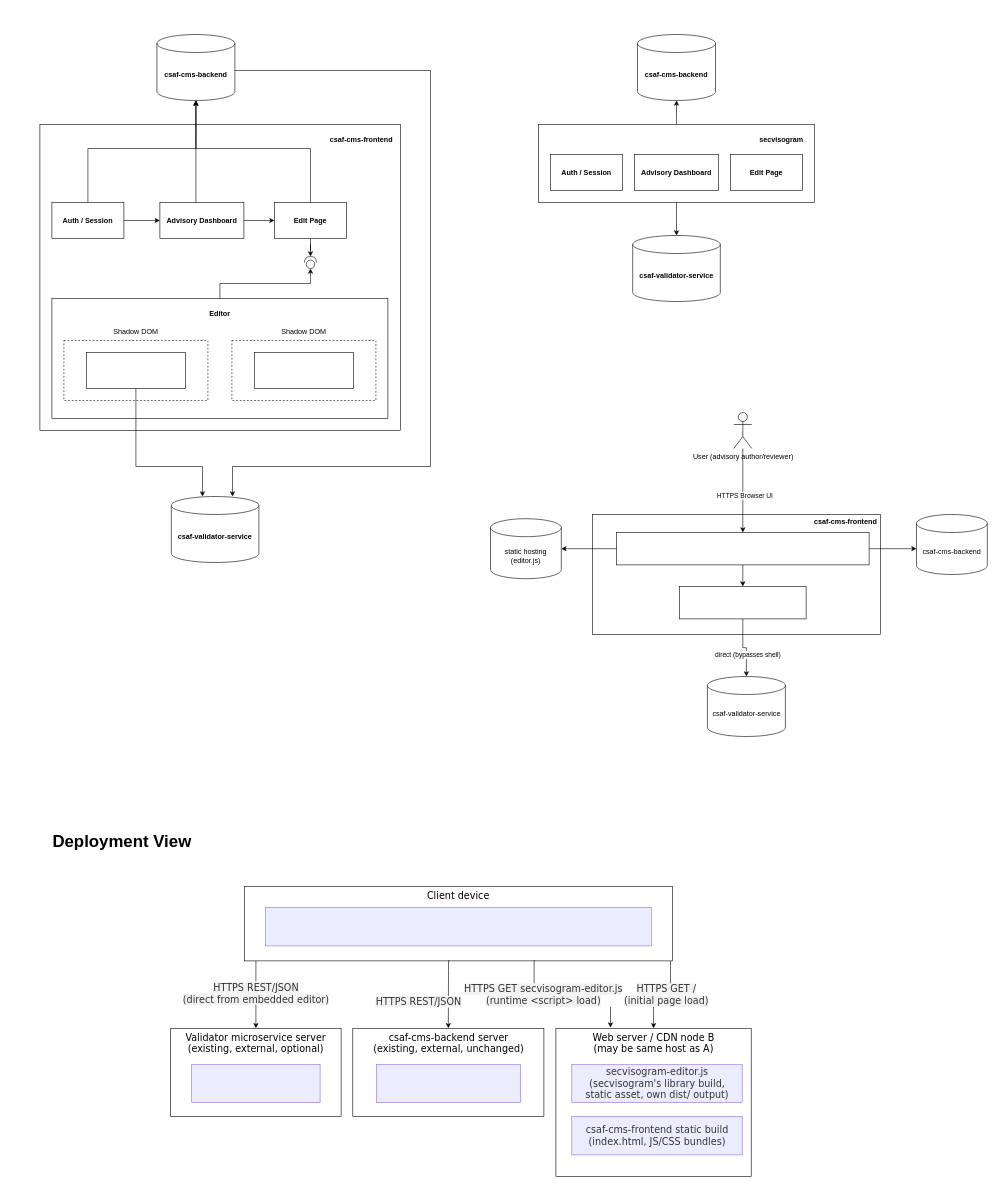
Some shapes in this 998 by 1187 pixel diagram are drawn without their labels. Here are the shapes that lost their labels. From the top down, the centre of each, then its label:
At (135,370): "<secvisogram-editor>".
At (303,370): "<secosimple-editor>".
At (742,548): "CMS shell (auth, dashboard, workflow, templates)".
At (742,602): "<csaf-editor-app> (embedded, Shadow DOM)".
At (458,926): "Browser (runs csaf-cms-frontend SPA + <secvisogram-editor> in Shadow DOM)".
At (255,1083): "POST /api/v1/validate".
At (448,1083): "REST API (advisories, auth, templates, workflow-state)".
